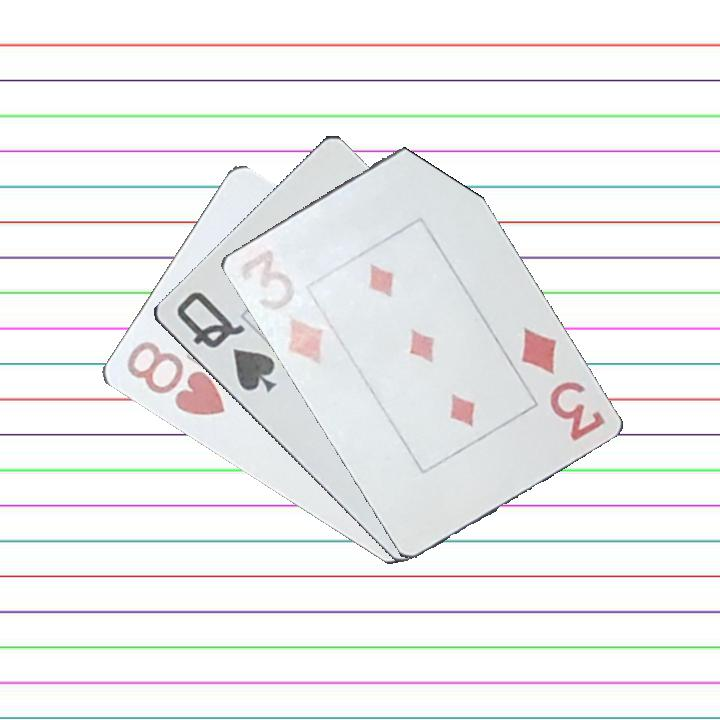3d: (234, 239, 331, 367), (517, 324, 608, 445)
8h: (122, 337, 227, 419)
Qs: (172, 288, 279, 396)
